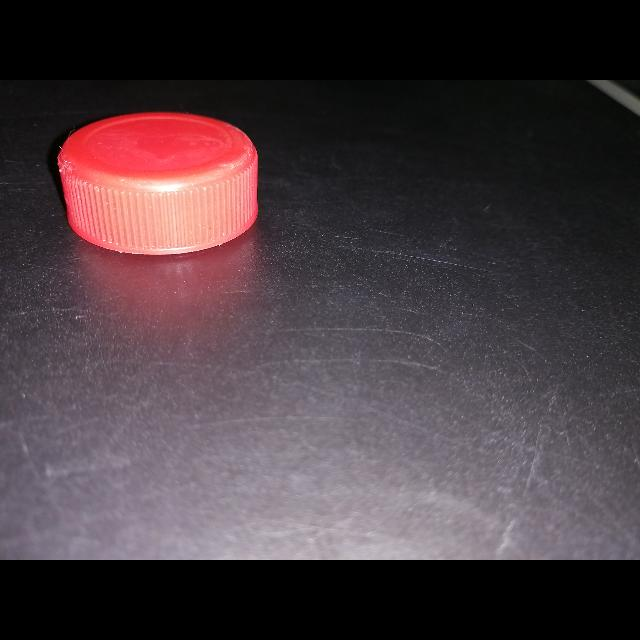plastic_bottle_cap: (57, 110, 259, 254)
